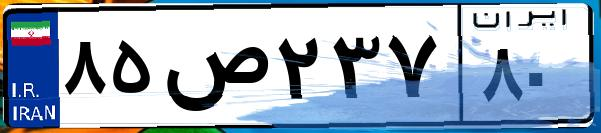0: (525, 38, 570, 115)
2: (270, 28, 330, 110)
3: (330, 28, 385, 110)
5: (110, 28, 158, 98)
7: (385, 28, 445, 110)
8: (57, 26, 110, 100), (475, 38, 525, 113)
ص: (158, 20, 270, 120)
